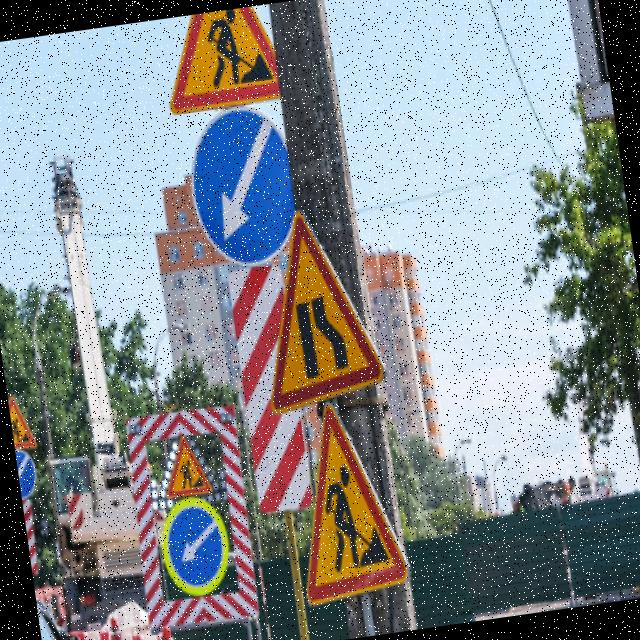road_work: (282, 398, 411, 604), (155, 4, 285, 114), (160, 430, 212, 501), (8, 392, 38, 450)
